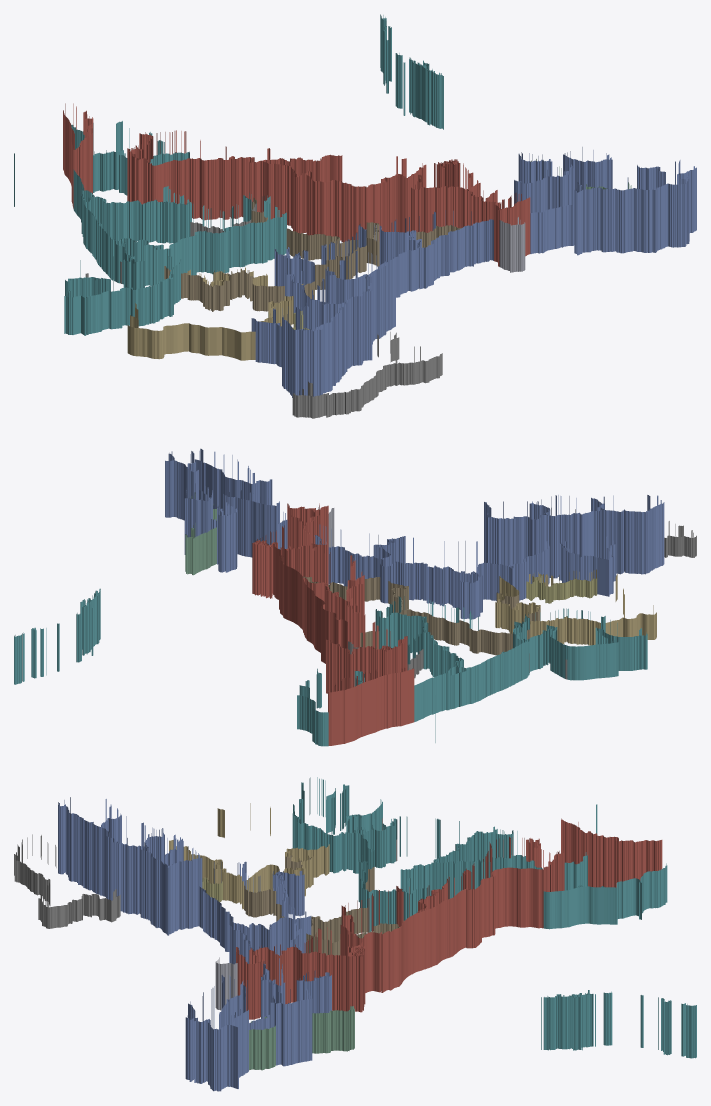
File: india.glb
3 renders of one model, top to bottom at view 1: azimuth 30°, elevation 25°; view 2: azimuth 150°, elevation 25°; view 3: azimuth 270°, elevation 25°, orthographic. The views are drawn at different scales.
Visible parts, largest first — view 1: India_geography_extruded; view 2: India_geography_extruded; view 3: India_geography_extruded.
Boxes of the visible parts, bbox=[...] form: India_geography_extruded: bbox=[14, 14, 696, 418]; India_geography_extruded: bbox=[14, 448, 696, 746]; India_geography_extruded: bbox=[14, 777, 696, 1091].
Bounding box in the file's own units: 9.67 × 1.1 × 10.
